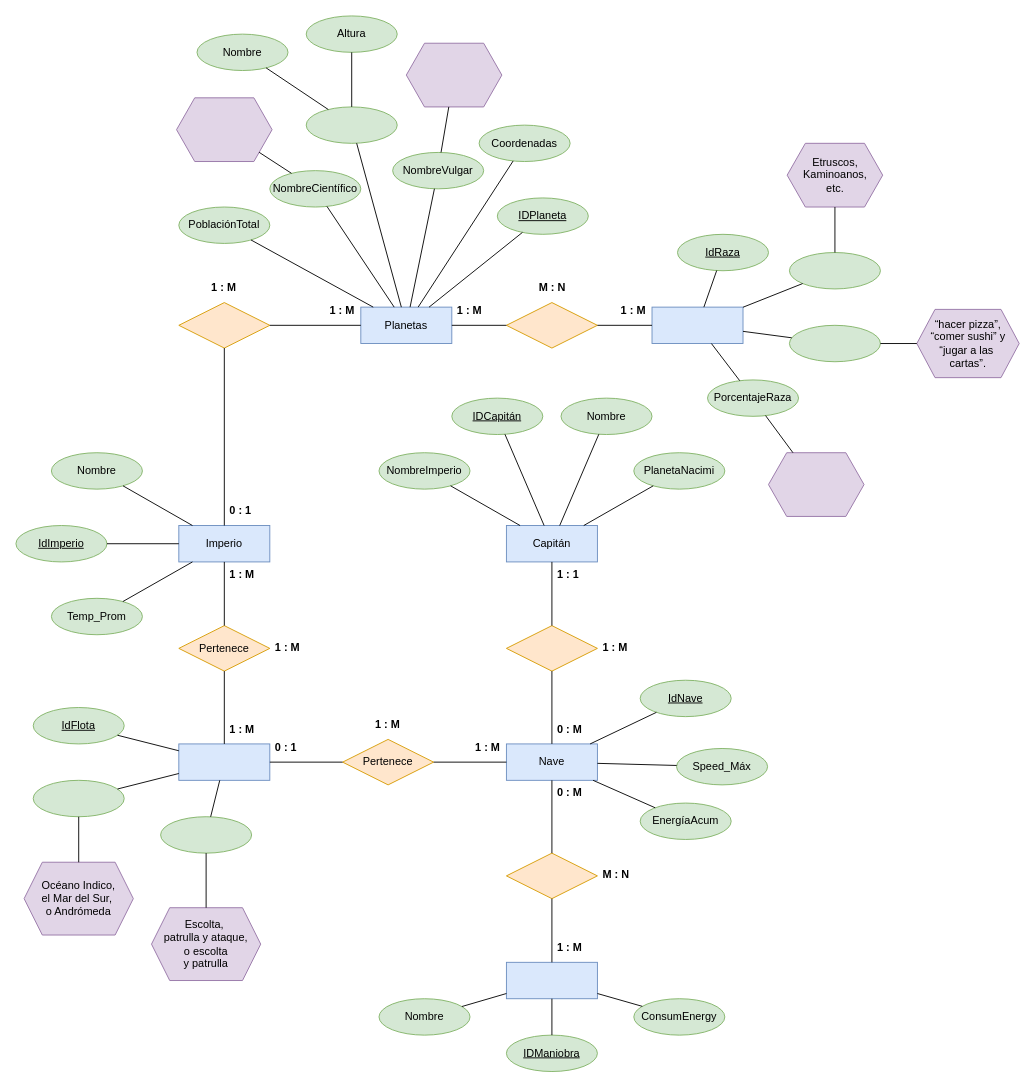
This 1036x1087 diagram has some shape labels left out. The centre of each missing label's shape, as x and y in pixels:
Asigna: (x=551, y=648)
Destino: (x=78, y=798)
Dividen: (x=551, y=325)
En formato porcentaje, ej: 84%, 87% etc: (x=816, y=484)
Flota: (x=224, y=761)
FM1073, FM2980, etc.: (x=224, y=129)
Habilidades: (x=834, y=343)
Hacer: (x=551, y=875)
Maniobras: (x=551, y=980)
Misiones: (x=206, y=834)
MontañasAltas: (x=351, y=124)
NameCientific: (x=834, y=270)
Ocupa: (x=224, y=325)
Razas: (x=697, y=325)
Tierra, Coruscant, Naboo, etc.: (x=453, y=74)
